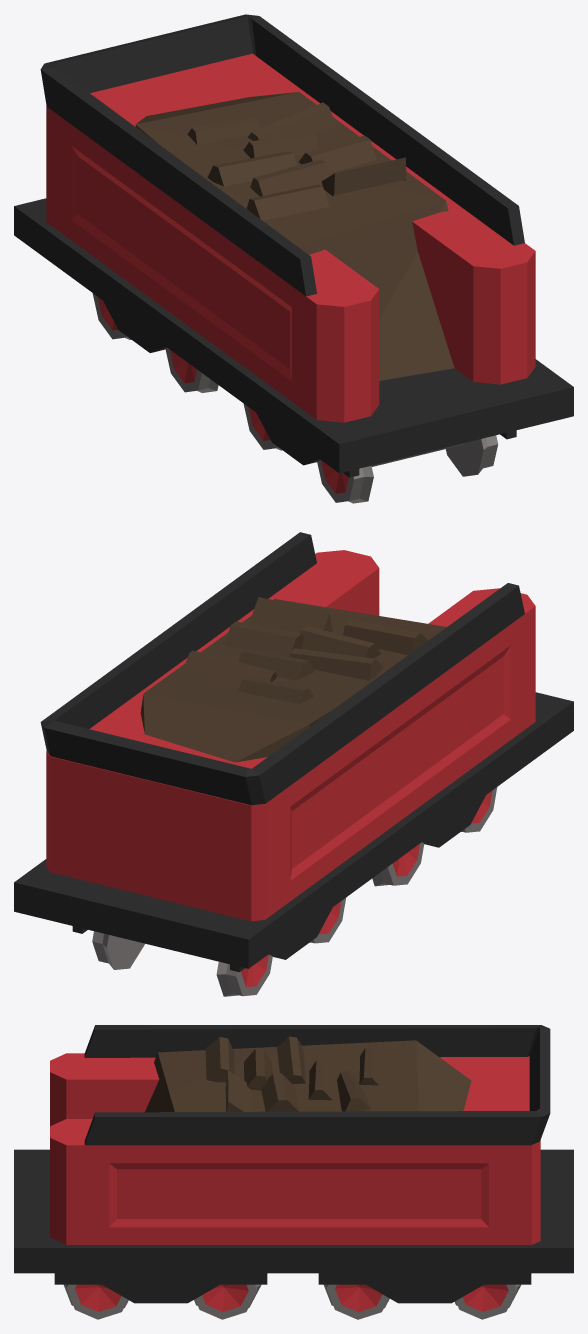
File: vehicles_locomotive-wagon-western.fbx
3 views of the same model, one above another, from view 1: azimuth 30°, elevation 25°; view 2: azimuth 150°, elevation 25°; view 3: azimuth 270°, elevation 25° (orthographic). The views are drawn at different scales.
Visible parts, largest first — view 1: locomotive_wagon_western_base, locomotive_wagon_wheel1, locomotive_wagon_wheel_base1, locomotive_wagon_wheel3, locomotive_wagon_wheel_base2, locomotive_wagon_wheel2; view 2: locomotive_wagon_western_base, locomotive_wagon_wheel4, locomotive_wagon_wheel2, locomotive_wagon_wheel_base2, locomotive_wagon_wheel_base1, locomotive_wagon_wheel3, locomotive_wagon_wheel1; view 3: locomotive_wagon_western_base, locomotive_wagon_wheel_base1, locomotive_wagon_wheel_base2, locomotive_wagon_wheel3, locomotive_wagon_wheel2, locomotive_wagon_wheel1, locomotive_wagon_wheel4.
Part boxes in pixels (x1=…): locomotive_wagon_western_base: x1=14, y1=14, x2=573, y2=473; locomotive_wagon_wheel1: x1=317, y1=435, x2=498, y2=503; locomotive_wagon_wheel_base1: x1=256, y1=413, x2=516, y2=477; locomotive_wagon_wheel3: x1=165, y1=347, x2=218, y2=392; locomotive_wagon_wheel_base2: x1=103, y1=301, x2=166, y2=352; locomotive_wagon_wheel2: x1=243, y1=404, x2=281, y2=450; locomotive_wagon_western_base: x1=14, y1=532, x2=573, y2=968; locomotive_wagon_wheel4: x1=92, y1=931, x2=272, y2=996; locomotive_wagon_wheel2: x1=372, y1=842, x2=424, y2=886; locomotive_wagon_wheel_base2: x1=72, y1=907, x2=332, y2=972; locomotive_wagon_wheel_base1: x1=422, y1=795, x2=485, y2=847; locomotive_wagon_wheel3: x1=309, y1=898, x2=345, y2=943; locomotive_wagon_wheel1: x1=461, y1=787, x2=497, y2=832; locomotive_wagon_western_base: x1=14, y1=1025, x2=573, y2=1273; locomotive_wagon_wheel_base1: x1=54, y1=1273, x2=267, y2=1303; locomotive_wagon_wheel_base2: x1=318, y1=1273, x2=531, y2=1303; locomotive_wagon_wheel3: x1=324, y1=1284, x2=389, y2=1319; locomotive_wagon_wheel2: x1=194, y1=1284, x2=261, y2=1319; locomotive_wagon_wheel1: x1=64, y1=1284, x2=128, y2=1319; locomotive_wagon_wheel4: x1=455, y1=1284, x2=520, y2=1319.
Bounding box in the file's own units: 83.26 × 89 × 200.
